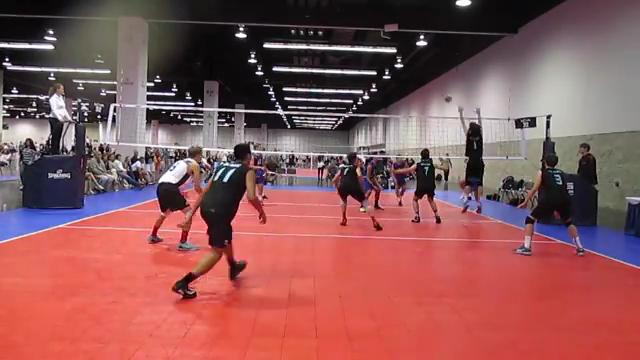Block: (454, 102, 488, 218)
Player: (172, 144, 266, 298), (514, 153, 584, 255), (148, 146, 201, 243), (333, 152, 381, 230), (393, 148, 440, 223), (365, 158, 382, 209), (251, 154, 267, 201), (393, 172, 407, 205), (357, 156, 371, 173)
ball: (443, 92, 453, 102)
